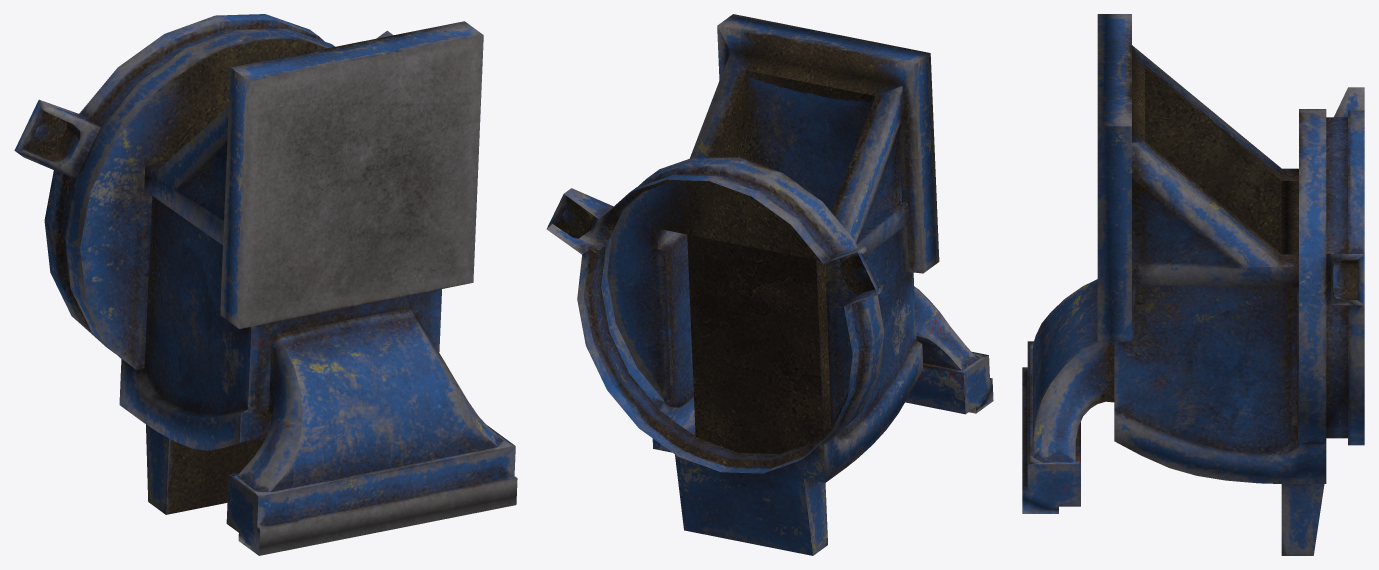
Rendered from Vice_Base_low.obj.
3 renders of one model, left to right at view 1: azimuth 30°, elevation 25°; view 2: azimuth 150°, elevation 25°; view 3: azimuth 270°, elevation 25°, orthographic. The views are drawn at different scales.
Bounding box in the file's own units: 0.2283 × 0.2885 × 0.1918.
1 material, 1 textured.
